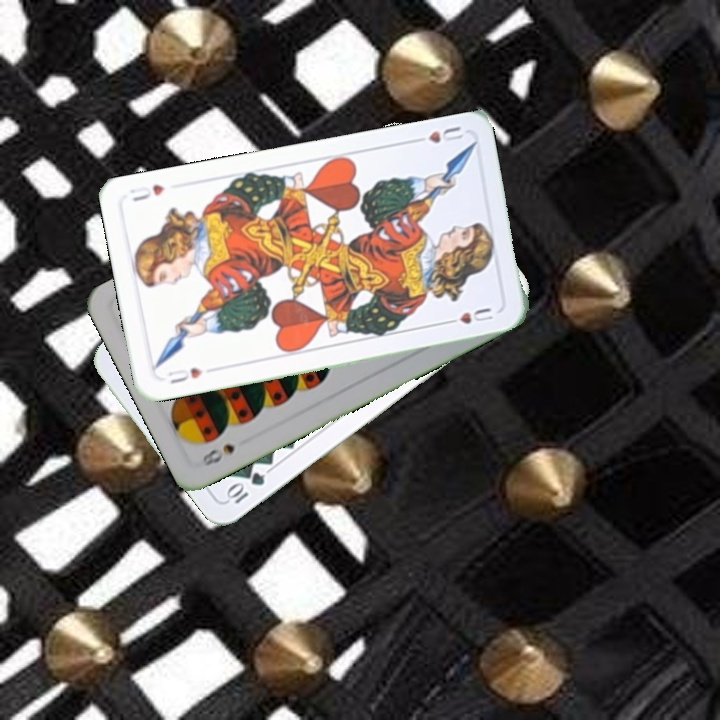G10: (222, 468, 268, 507)
HU: (408, 122, 467, 146), (163, 363, 204, 386)
S8: (198, 439, 238, 469)
